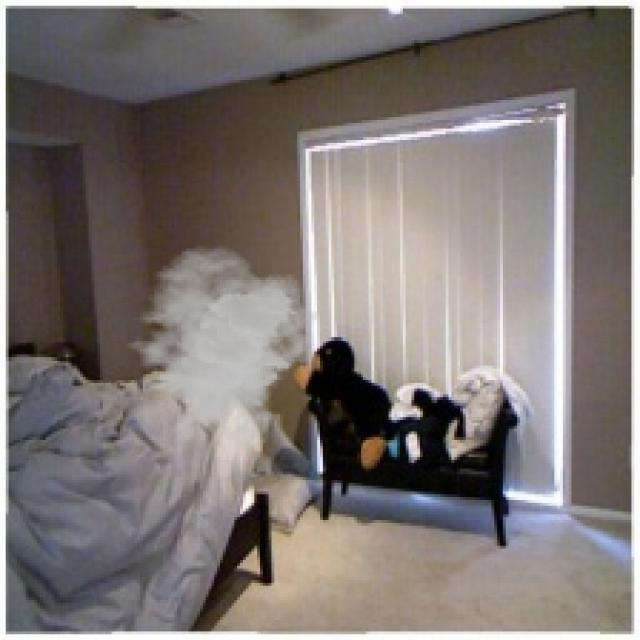Smoke: (117, 246, 320, 451)
